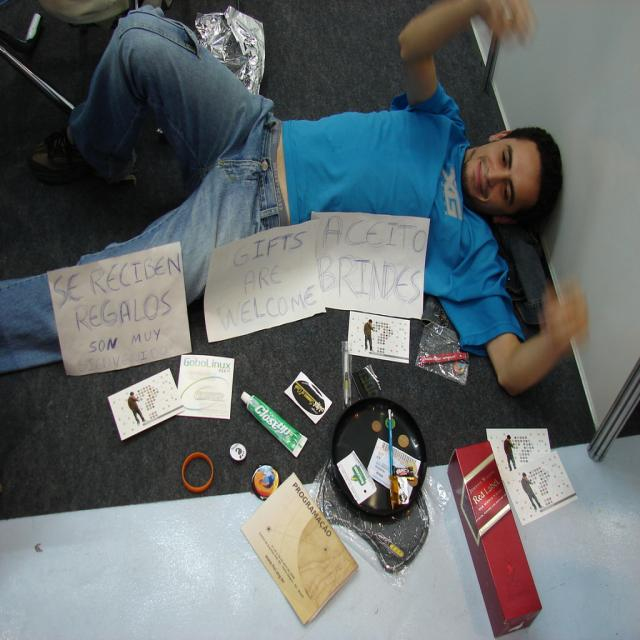Box: (452, 424, 554, 622)
